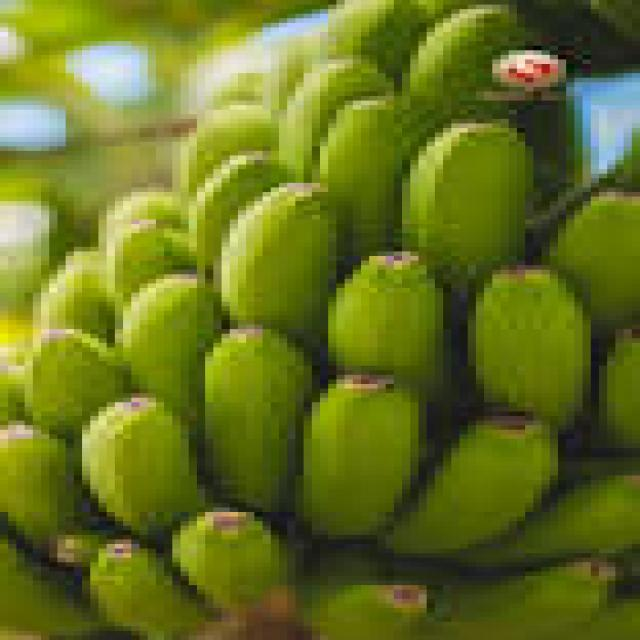banana: (386, 416, 557, 557), (403, 124, 533, 292), (296, 375, 426, 539), (468, 266, 590, 429), (206, 325, 311, 511), (222, 183, 336, 342), (329, 252, 443, 402), (83, 398, 205, 534), (403, 5, 533, 132), (460, 476, 639, 566), (320, 96, 418, 260), (115, 275, 221, 425), (427, 558, 615, 639), (279, 60, 393, 178), (550, 192, 639, 329), (91, 540, 213, 639), (189, 151, 287, 274), (173, 512, 295, 607), (25, 330, 131, 438), (0, 426, 90, 543), (0, 540, 98, 639), (181, 106, 278, 196), (320, 0, 426, 77), (107, 220, 196, 306), (33, 252, 114, 338), (304, 586, 426, 639), (304, 544, 393, 607), (99, 188, 180, 246), (599, 330, 639, 447), (263, 32, 319, 114), (575, 595, 639, 639), (50, 531, 114, 571), (419, 0, 516, 22), (591, 0, 639, 41), (0, 357, 24, 425)
